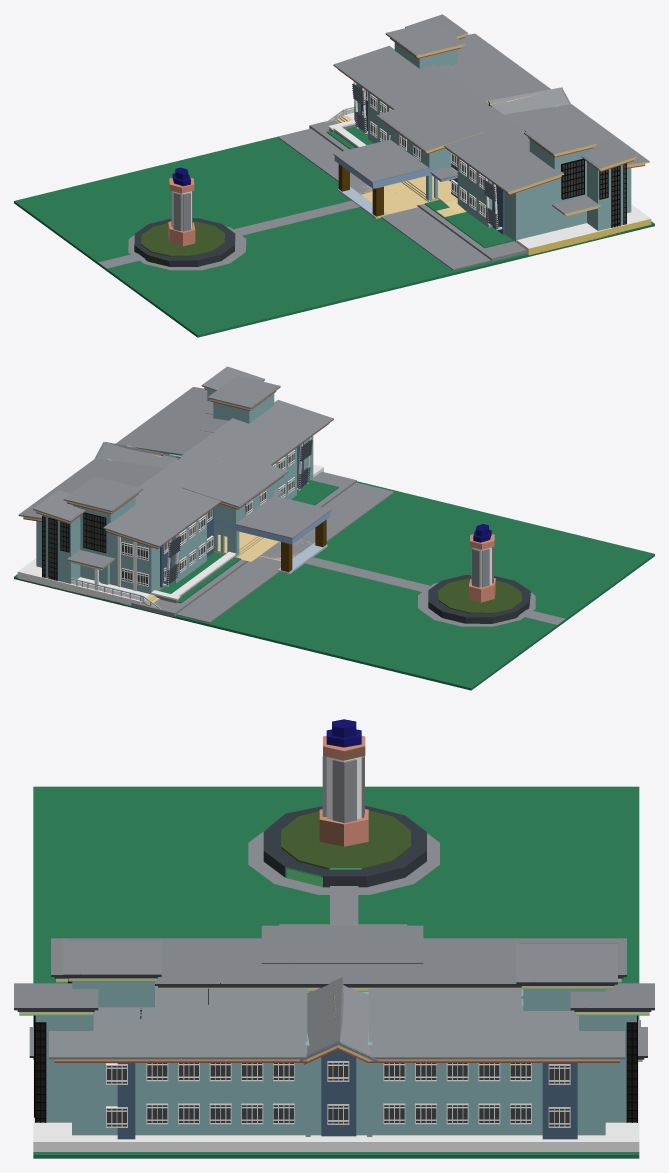
Rendered from COMNew.gltf.
3 views of the same model, one above another, from view 1: azimuth 30°, elevation 25°; view 2: azimuth 150°, elevation 25°; view 3: azimuth 270°, elevation 25° (orthographic). The views are drawn at different scales.
Parts seen in each view (by area): view 1: cube (×32), cylinder (×2), circle; view 2: cube (×36), cylinder (×2), circle; view 3: cube (×39), cylinder (×5), circle.
Part boxes in pixels (<box>): cube (×32): <box>14,21,654,337</box>; cylinder (×2): <box>134,218,235,266</box>; circle: <box>128,226,246,270</box>; cube (×36): <box>14,366,654,690</box>; cylinder (×2): <box>428,575,530,623</box>; circle: <box>418,582,535,626</box>; cube (×39): <box>14,759,654,1158</box>; cylinder (×5): <box>263,735,426,887</box>; circle: <box>248,831,439,894</box>.
Bounding box in the file's own units: 31.14 × 5.68 × 22.81.
Materials: 25 (24 with a texture image).
